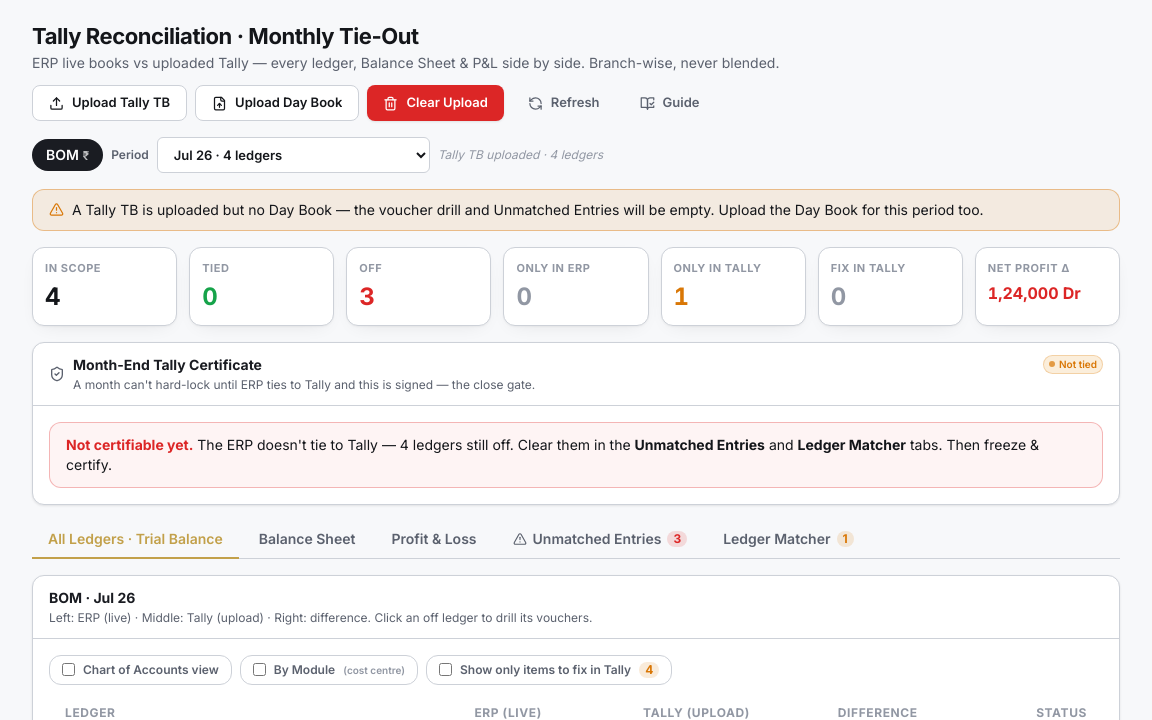
Scenario: Tally Reconciliation · tie-out board render › Unmatched Entries — Not in ERP / Not in Tally / Amount differs render as separate sections; master gaps excluded
Click the button "Unmatched Entries 3" at (600, 540), box [496,520,703,558]
(page scrolled)
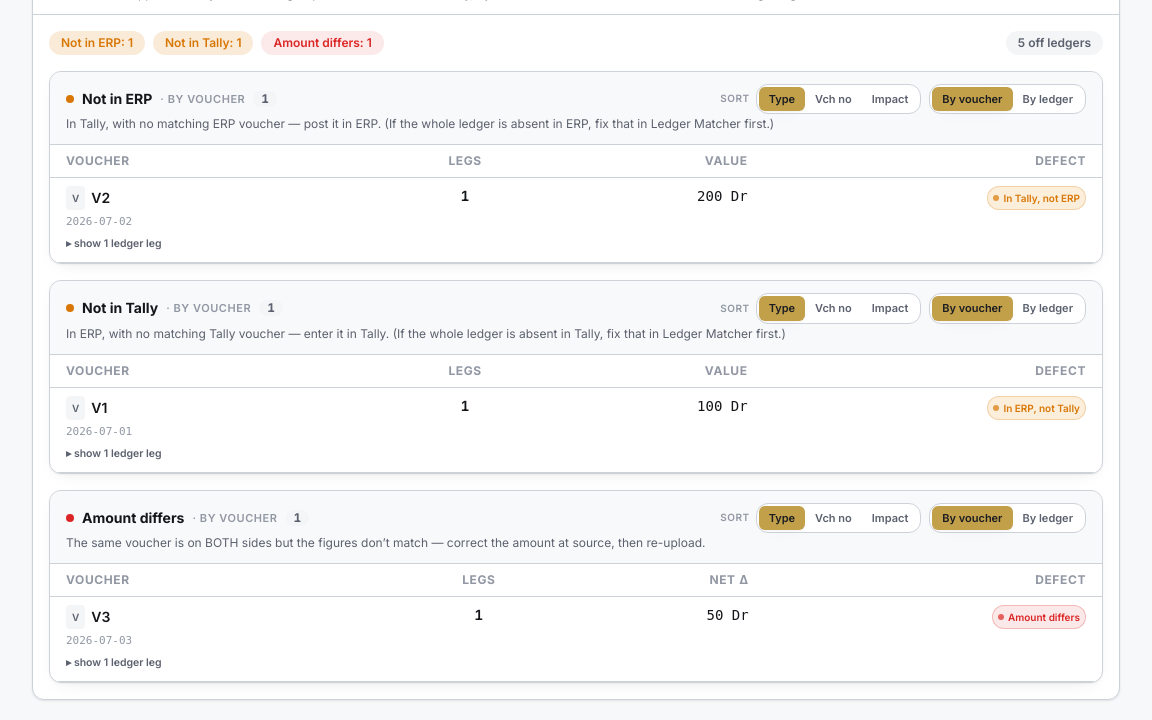
Result: the heading "Not in ERP · by voucher 1" is shown at [66,89,277,109]
Result: the heading "Not in Tally · by voucher 1" is shown at [66,298,283,318]
Result: the text "Amount differs: 1" is shown at [262,30,384,54]
